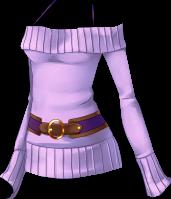Bodice: (21, 24, 125, 179)
Neckline: (26, 135, 114, 149), (25, 23, 123, 30)
Sleeve: (103, 46, 170, 196)
Sleeveline: (103, 47, 126, 54), (134, 151, 154, 159)
Waistline: (23, 166, 121, 179)
